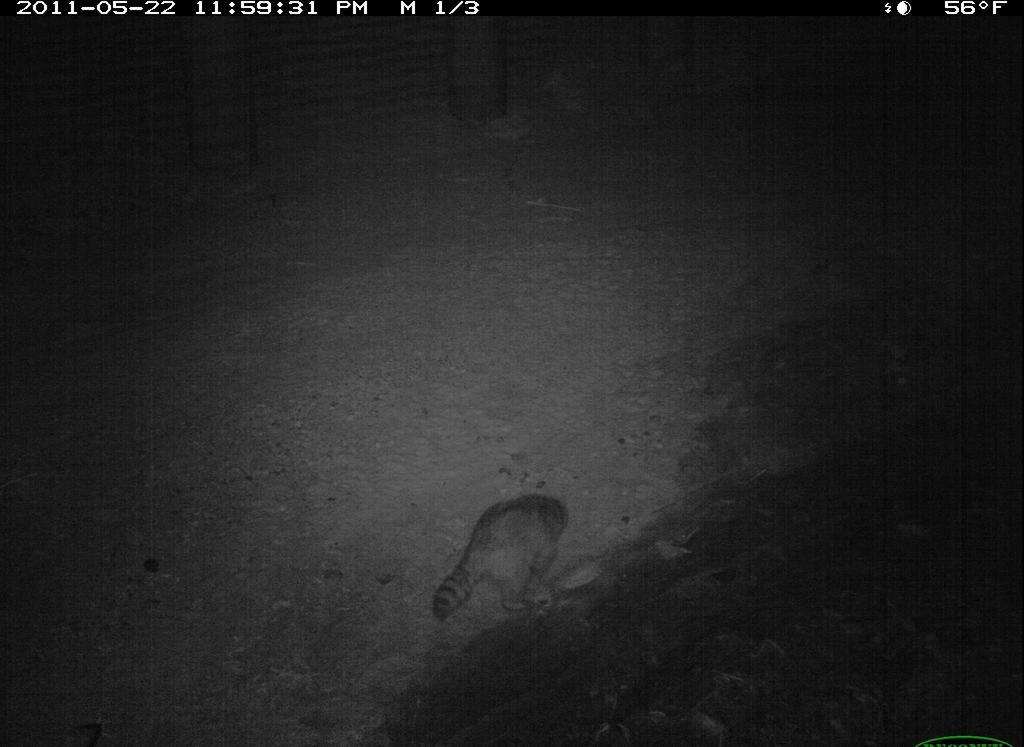raccoon: (427, 483, 578, 629)
